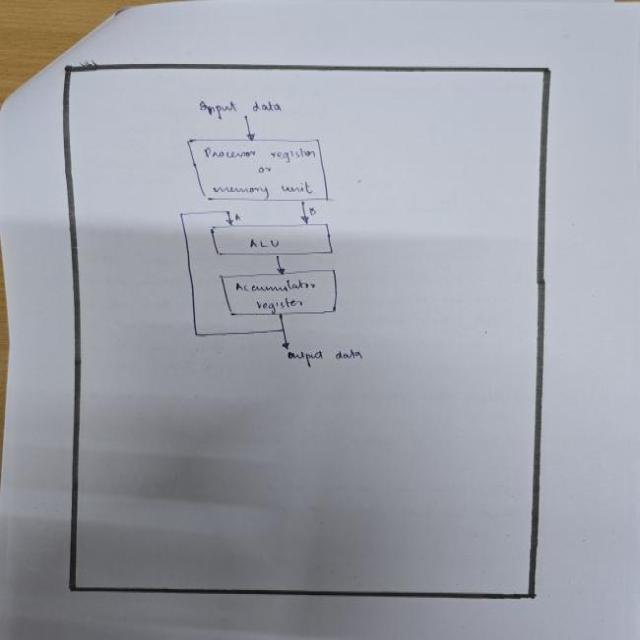Figure Detection - v3 Dataset Version2: (150, 86, 402, 381)
